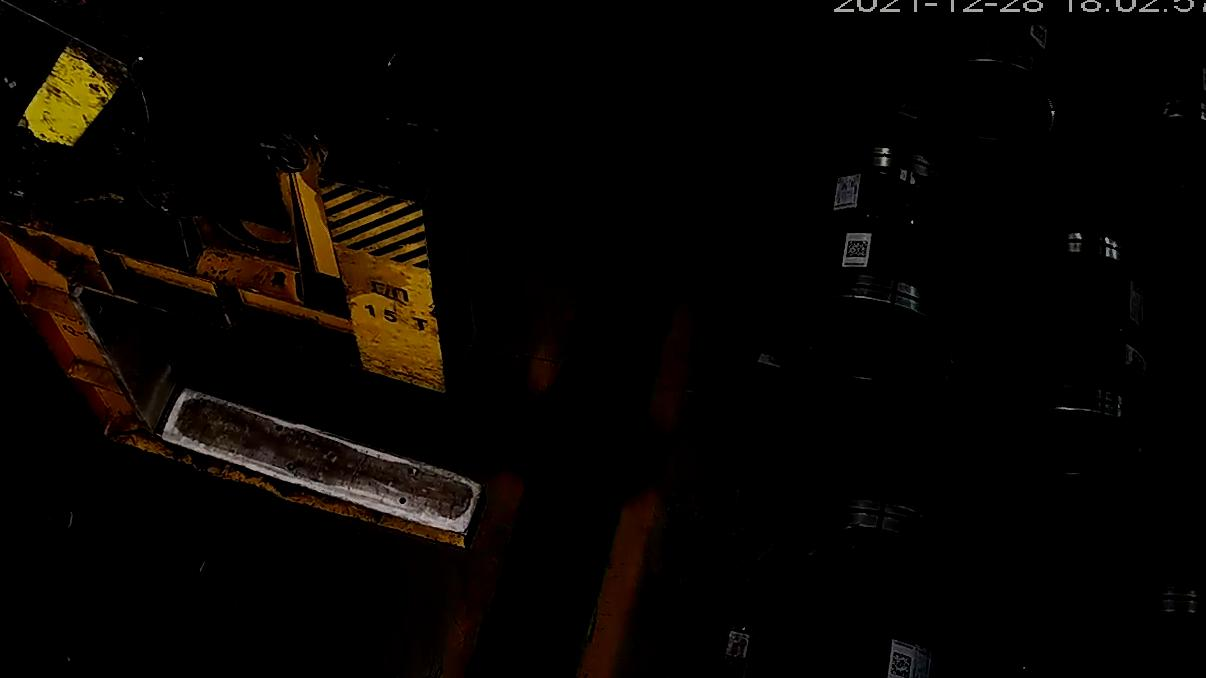data matrix: (890, 651, 914, 678), (846, 239, 871, 260)
